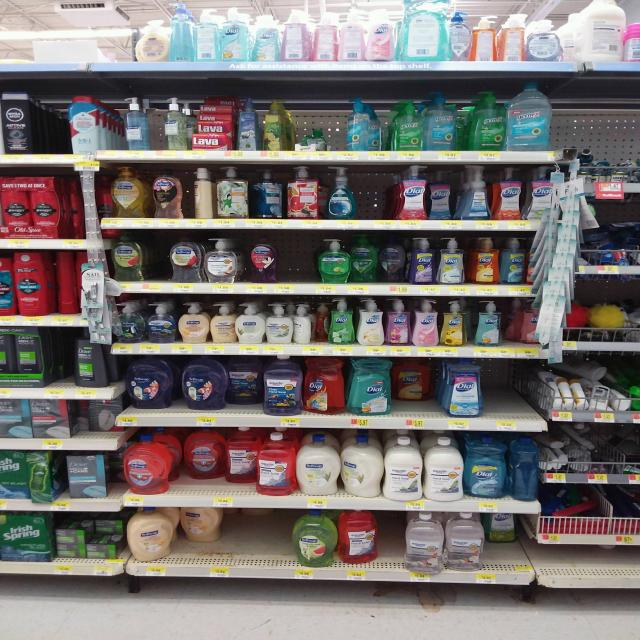empty: (480, 358, 530, 415), (267, 233, 320, 286), (31, 90, 70, 160), (351, 167, 395, 229), (47, 330, 77, 392)
